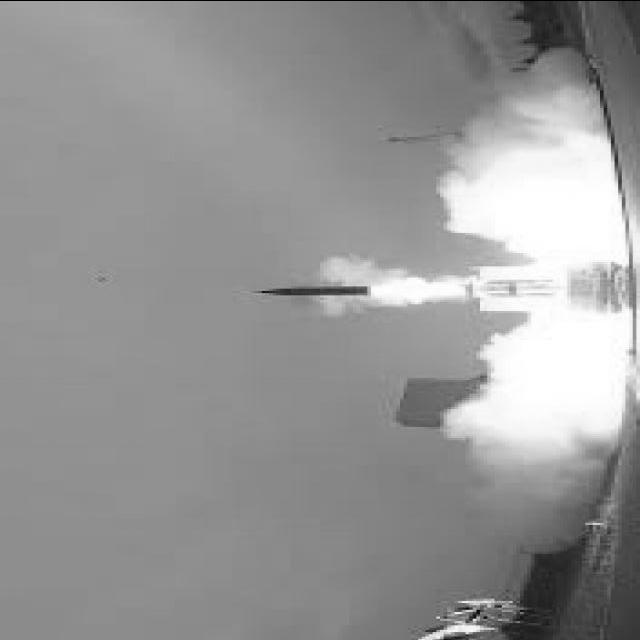Missile: (249, 279, 383, 301)
